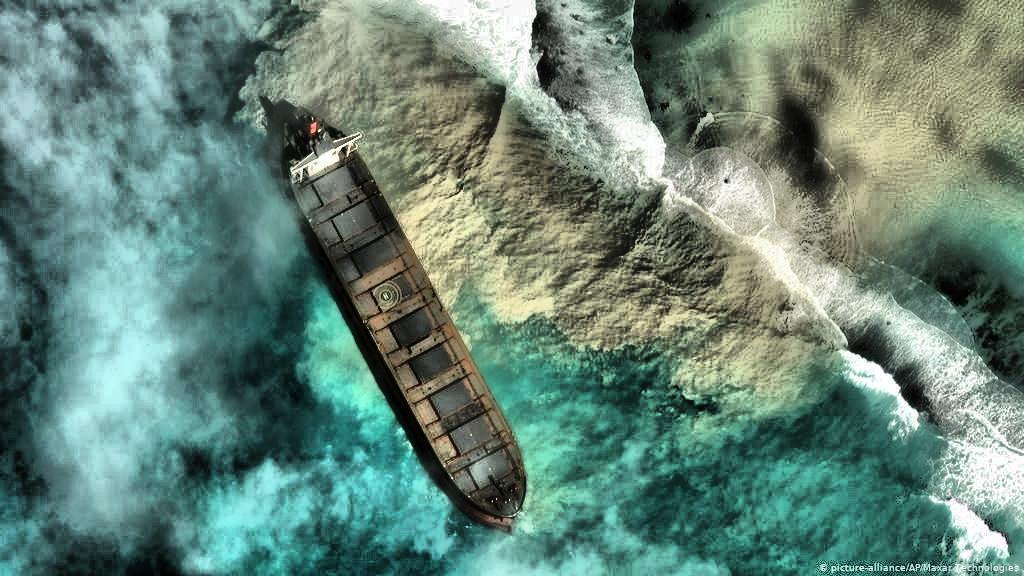truecolor: (242, 1, 848, 414), (634, 0, 1024, 388)
